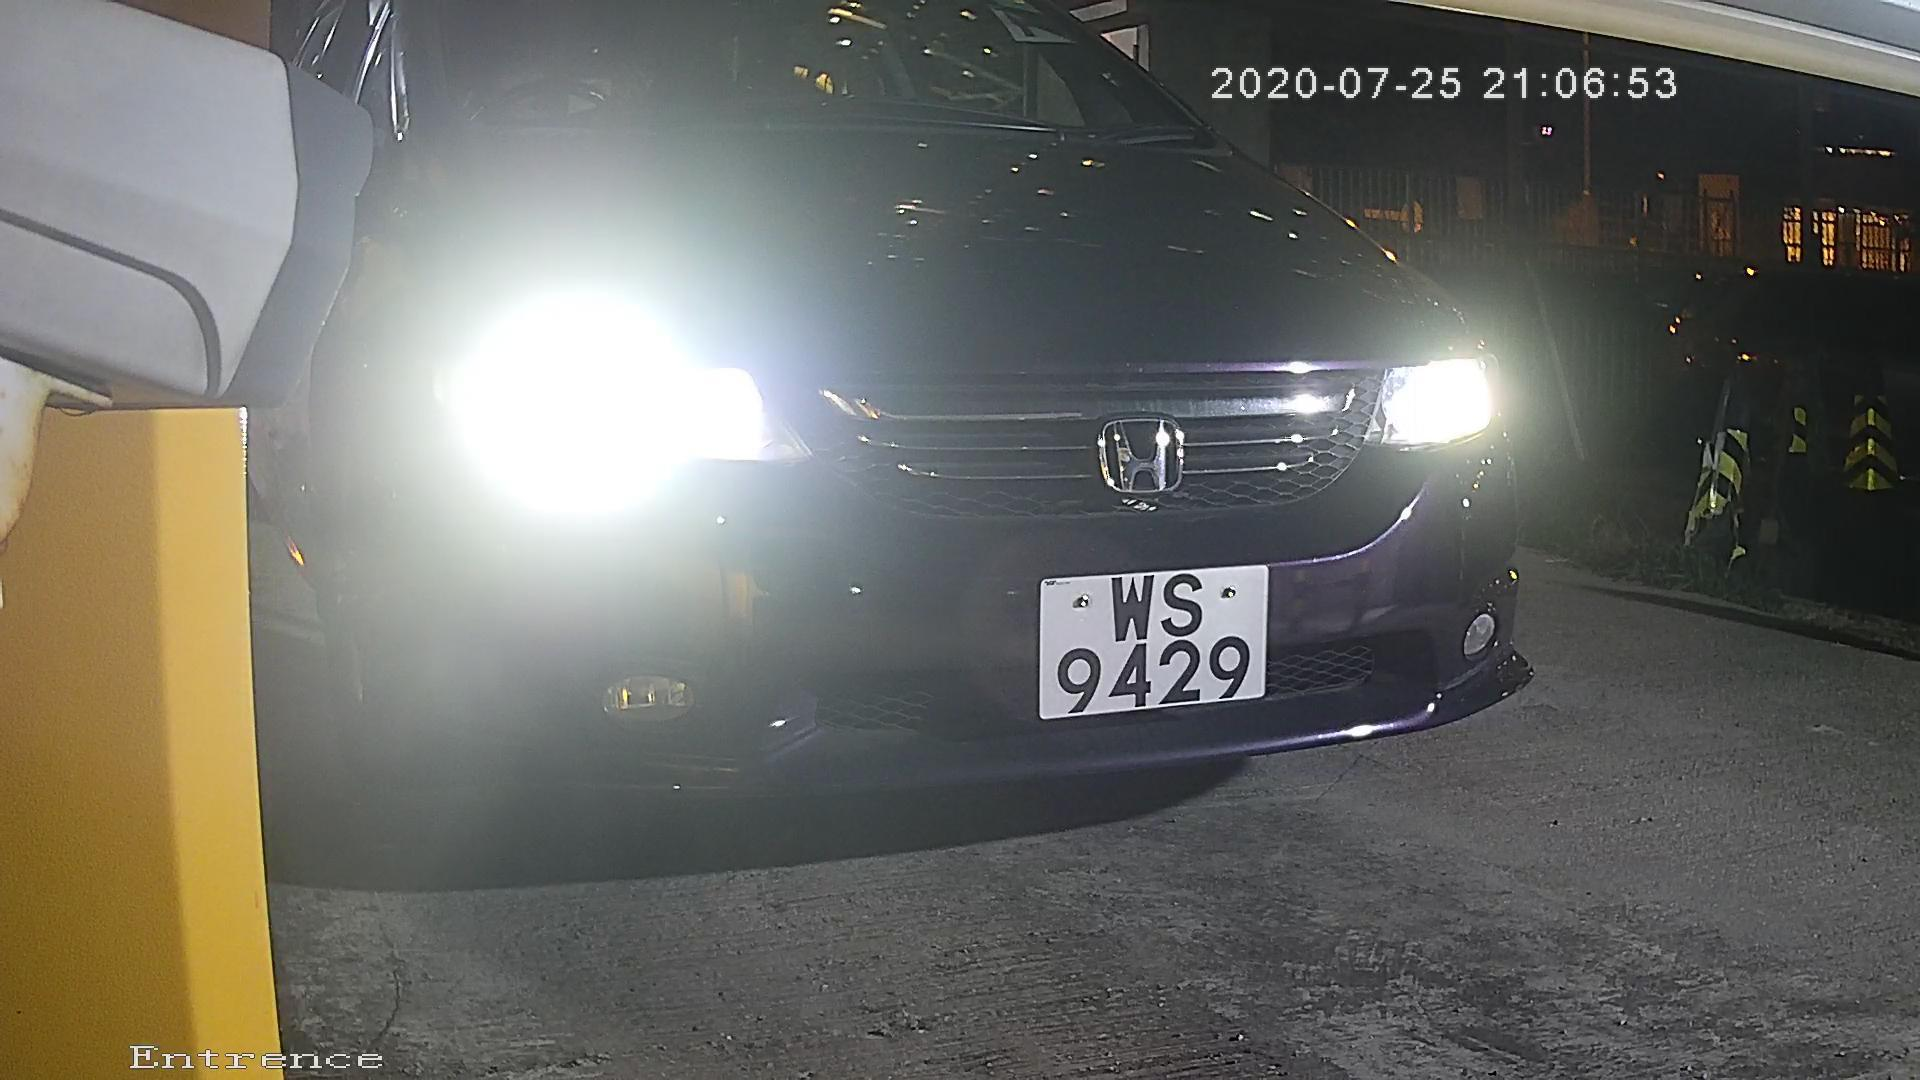privatecar: (309, 20, 1672, 873)
